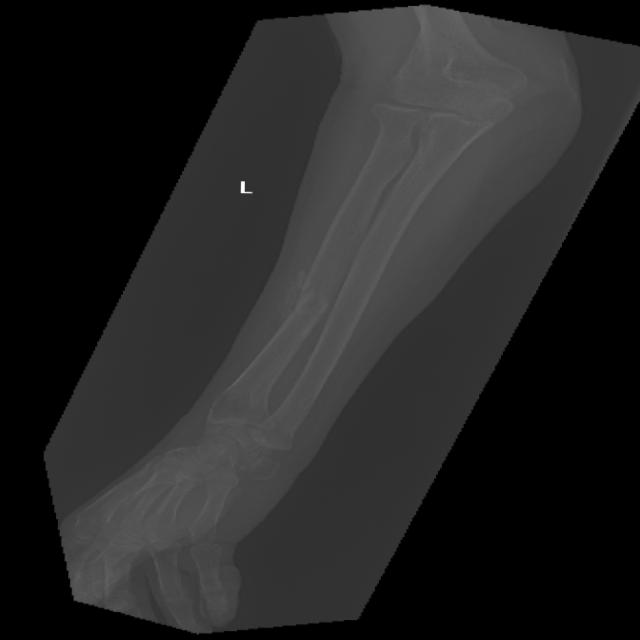forearm fracture: (241, 251, 362, 384)
